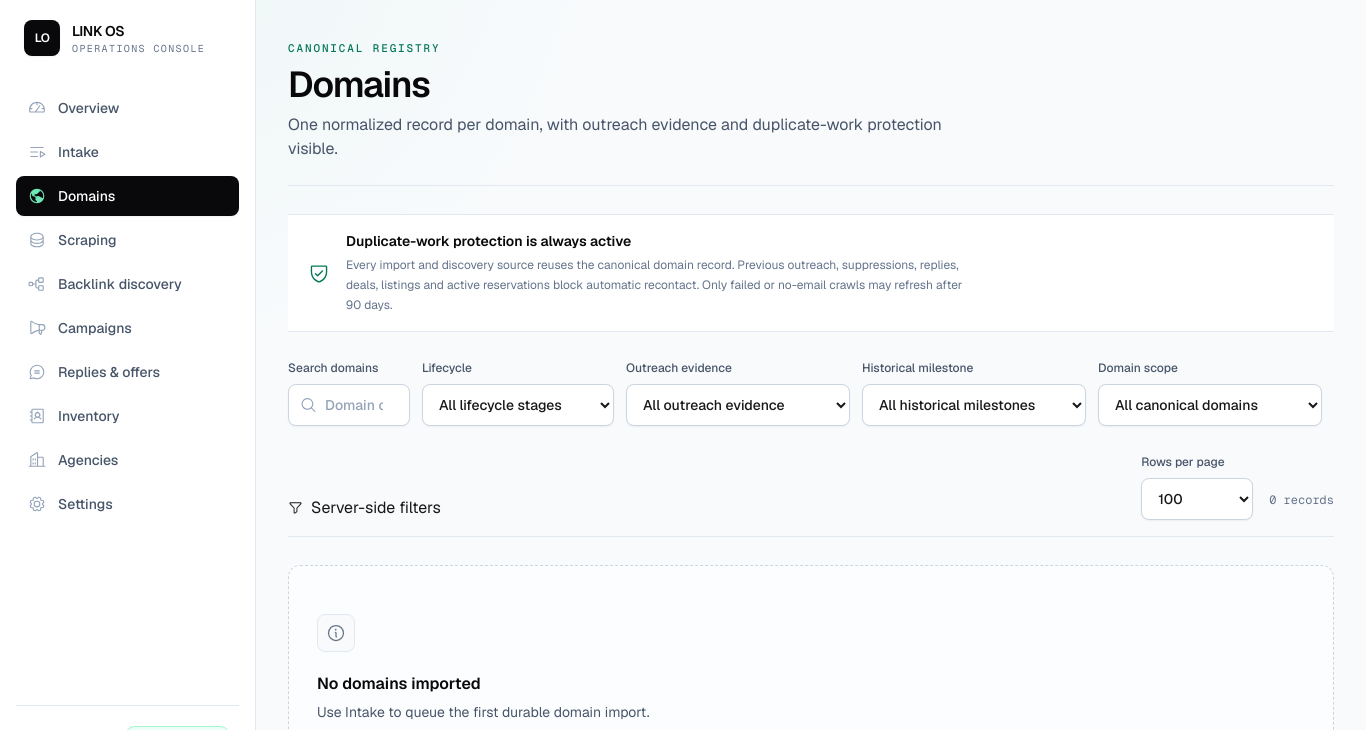
Test: LINK OS console › sends domain search and lifecycle filters to the server
This screenshot has width=1366, height=730.
Type "needle" into the search field labelled "Search domains" at (349, 404), box [288,384,410,426]
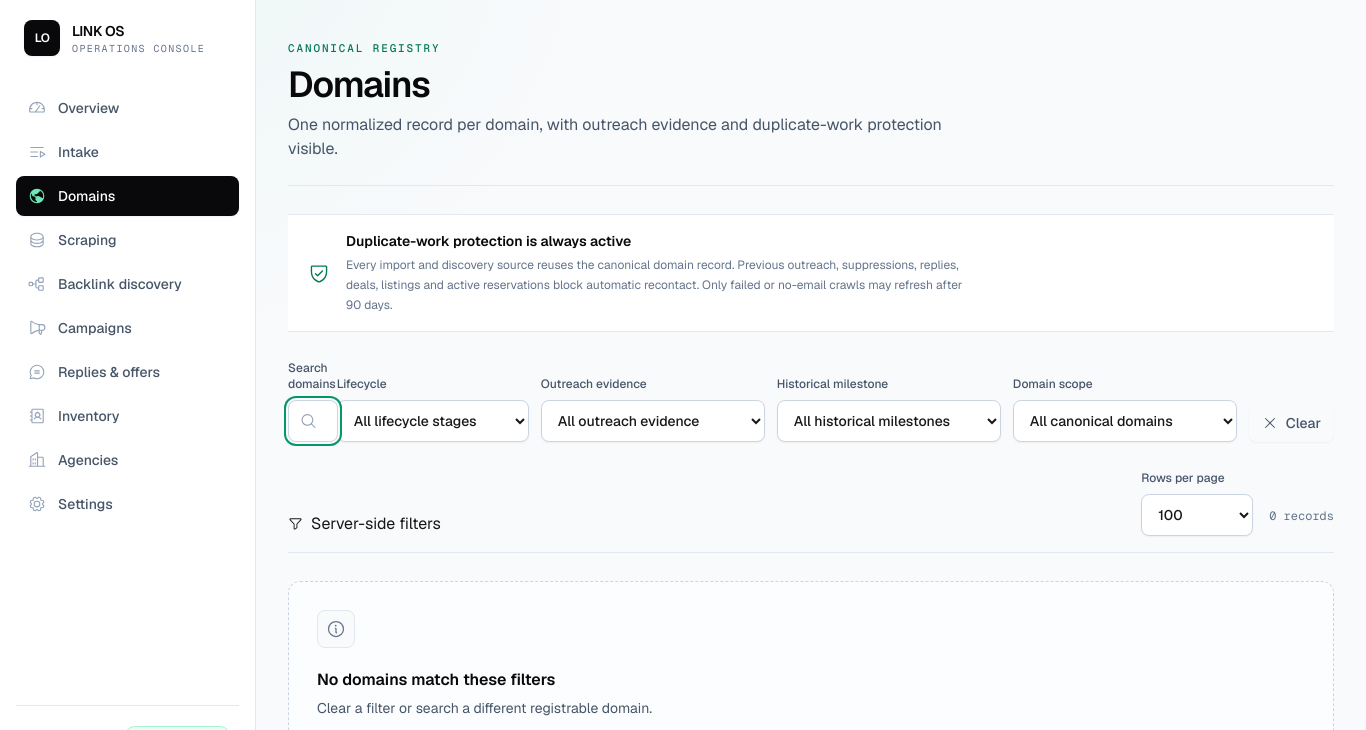
Select "Verified" in the dropdown named "Lifecycle status" at (433, 420), box [337,400,529,442]
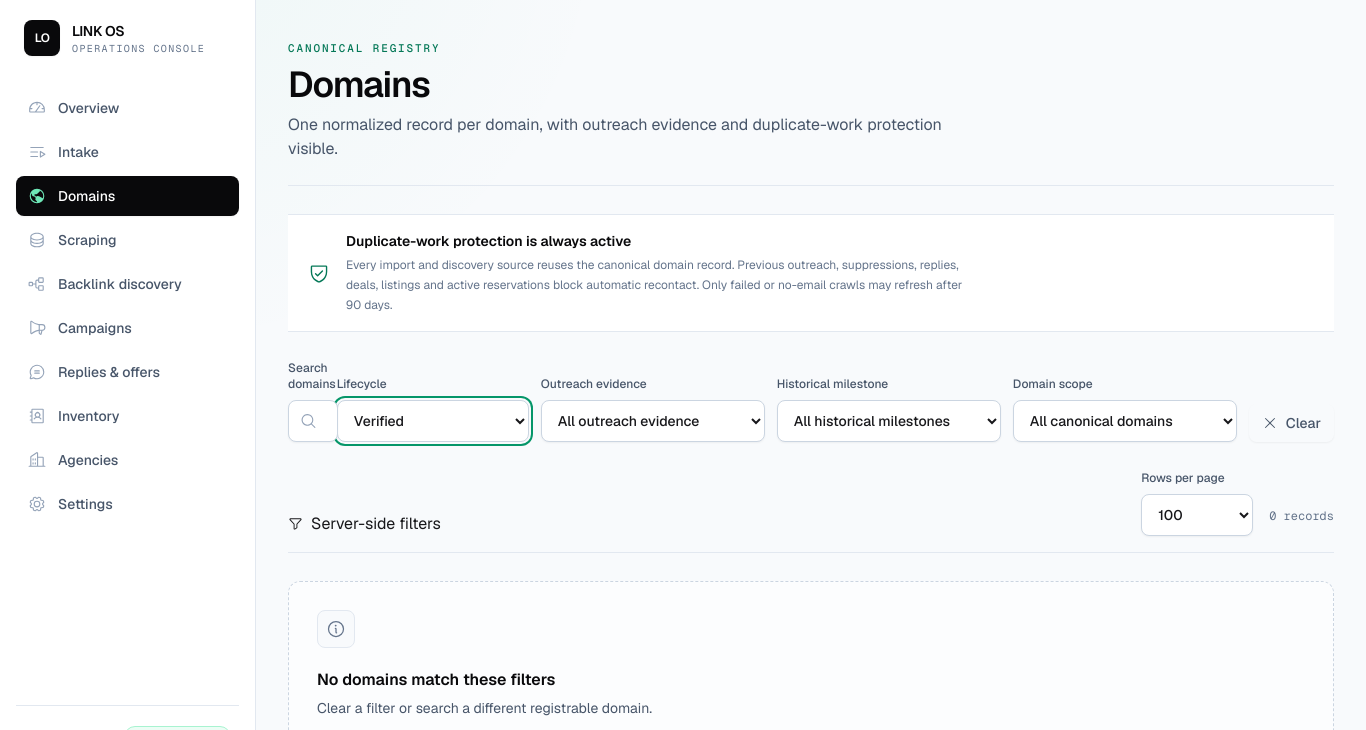
Select "Sent confirmed" in the dropdown labelled "Outreach evidence" at (653, 420), box [541,400,765,442]
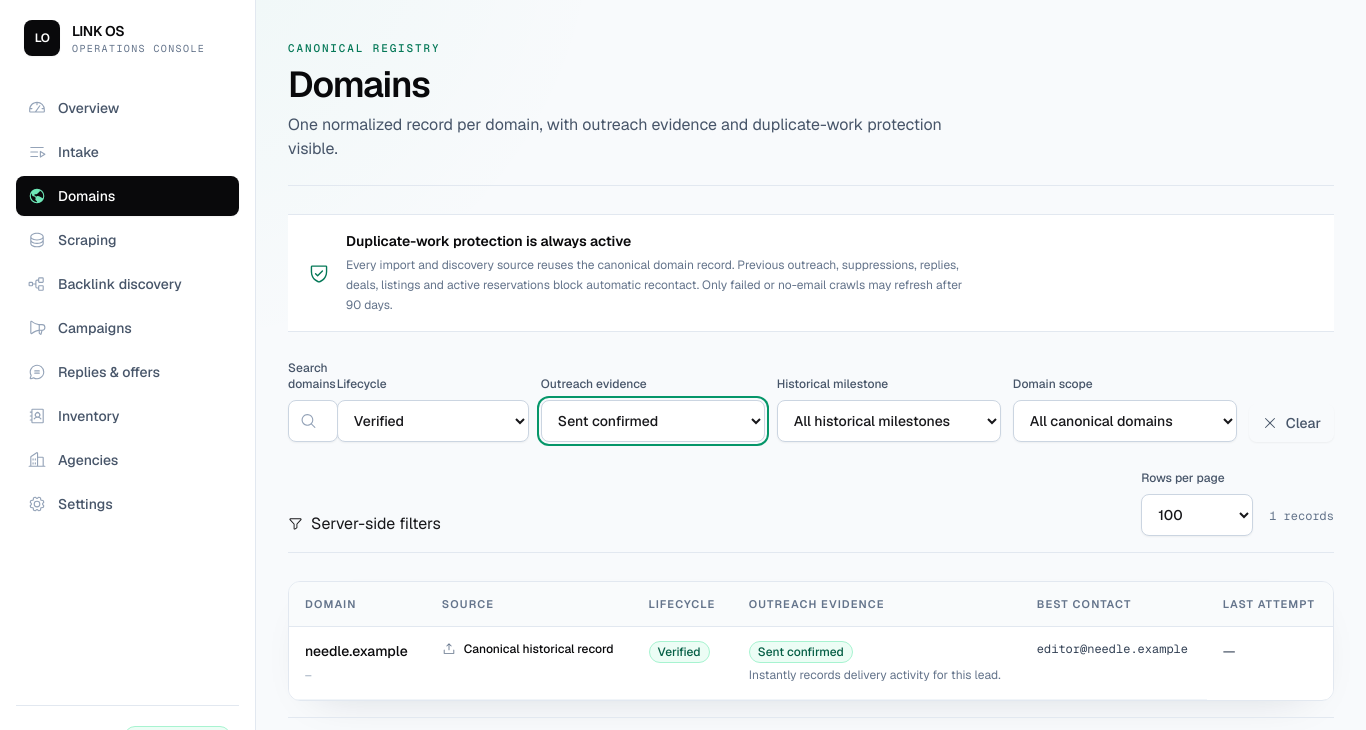
expect the button "needle.example" is shown: met, box [305,640,408,660]
